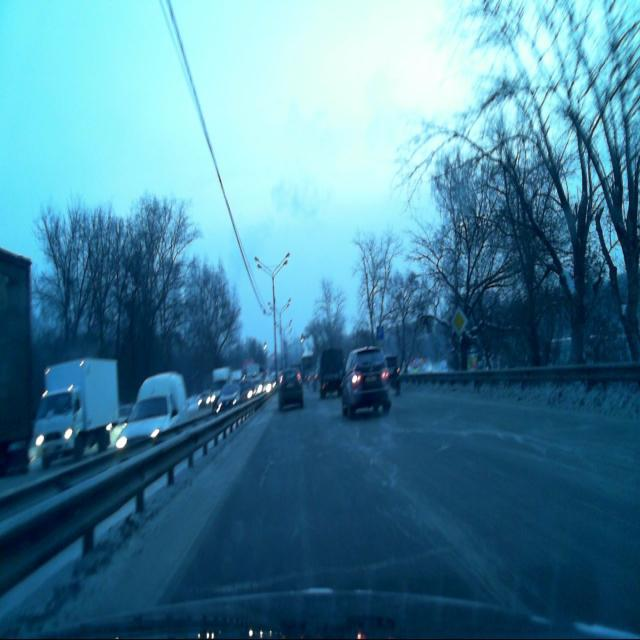road sign: (451, 306, 467, 336)
